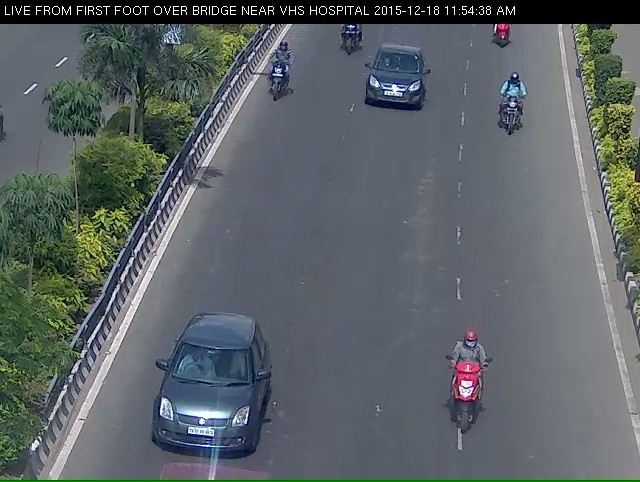Car: (133, 343, 269, 479), (357, 52, 426, 135)
Person: (434, 351, 495, 462), (489, 75, 538, 149), (251, 44, 294, 119), (327, 17, 361, 71), (484, 20, 521, 60)
